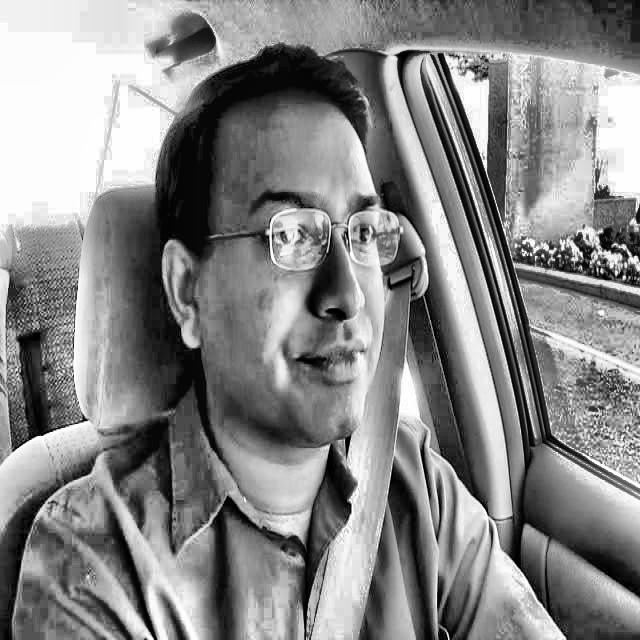closed_mouth: (279, 328, 384, 393)
open_eyes: (264, 209, 331, 272), (344, 211, 400, 275)
